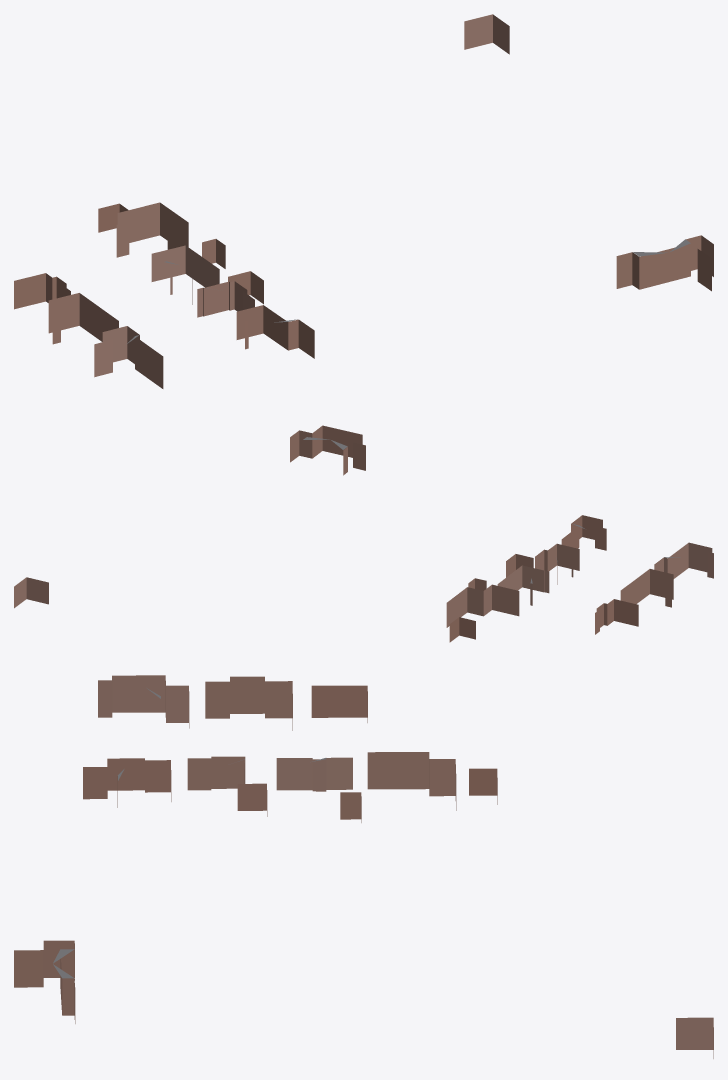
File: c_1639_17836_buildings_residential.glb
3 views of the same model, one above another, from view 1: azimuth 30°, elevation 25°; view 2: azimuth 150°, elevation 25°; view 3: azimuth 270°, elevation 25° (orthographic). The views are drawn at different scales.
Parts seen in each view (by area): view 1: geometry_0; view 2: geometry_0; view 3: geometry_0.
Part boxes in pixels (x1,y1,x2,y2): geometry_0: (14, 14, 713, 388); geometry_0: (14, 425, 713, 642); geometry_0: (14, 675, 713, 1058).
Size of the model in its own units: 224 by 11.08 by 188.
